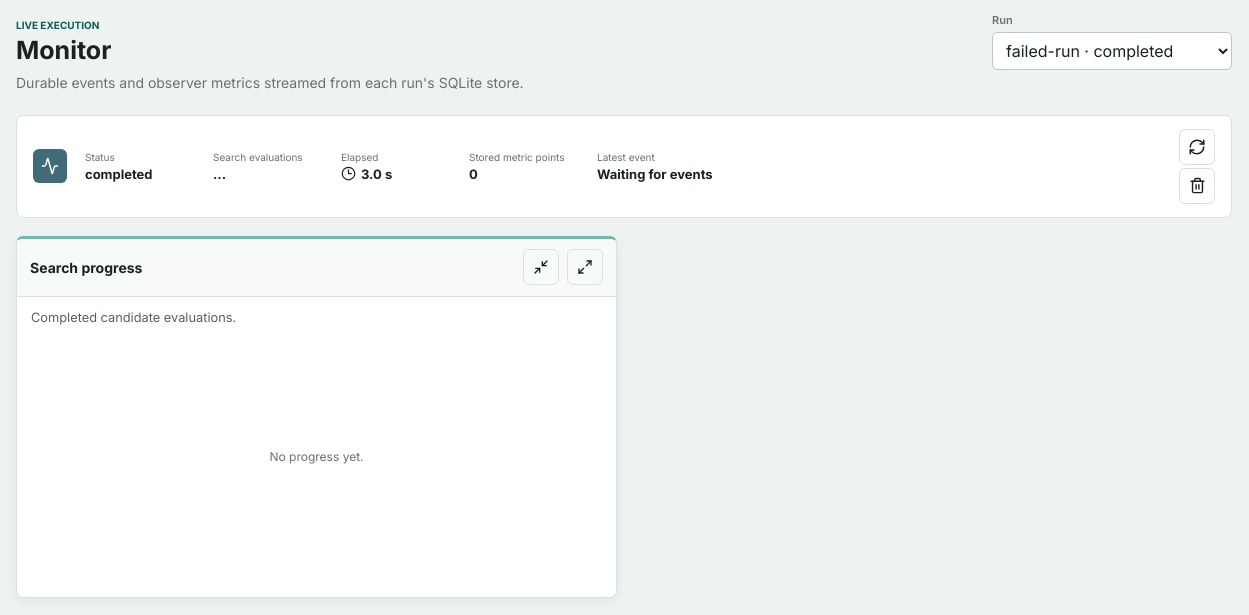
Test case: Monitor › moves minimized observers into a compact restorable dock
Expected: the number of elements with class "observer-panel" is 1, [16,236,617,598]
Expected: the text "Completed candidate evaluations." is shown, [31,310,236,325]
Step 1. Click the button titled "Minimize" → (541, 267), box [523,249,559,285]
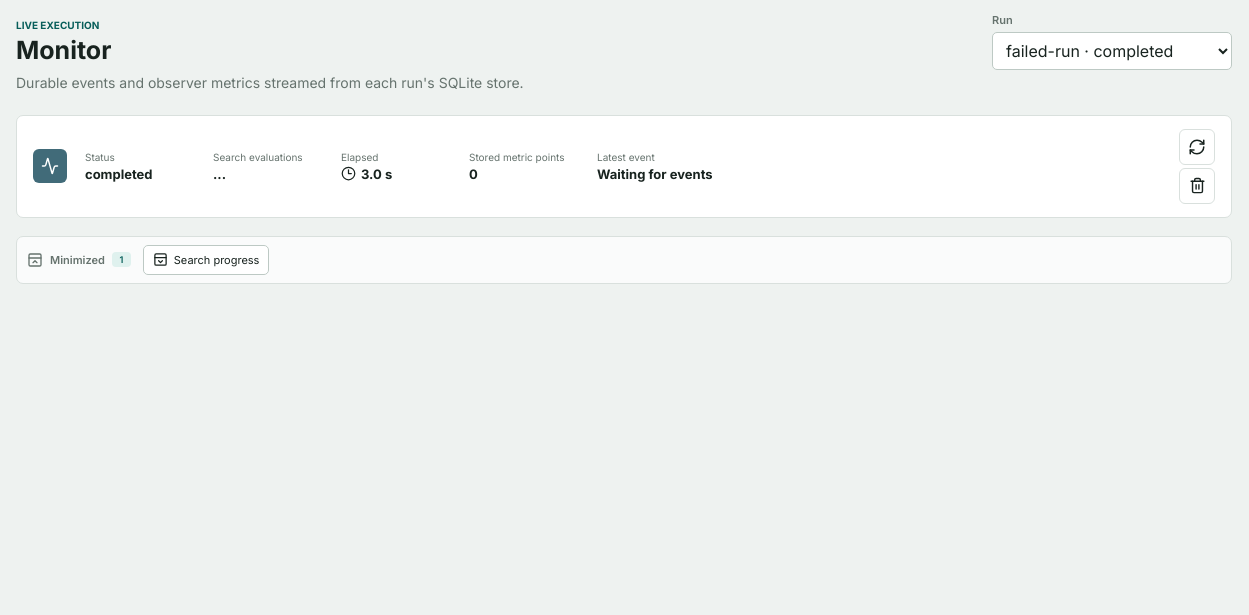
Expected: no elements with class "observer-panel" are shown
Expected: the element named "Minimized observer panels" is shown, [16,236,1232,284]
Step 2. Click the button "Search progress" → (206, 260), box [143,245,269,275]
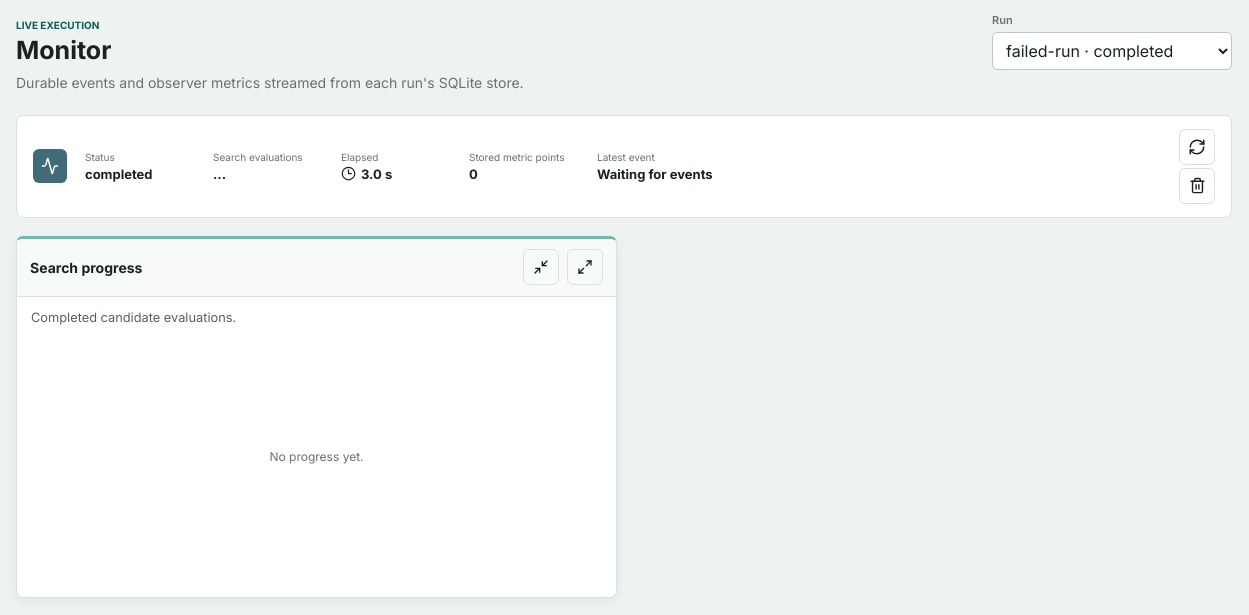
Expected: the number of elements with class "observer-panel" is 1, [16,236,617,598]
